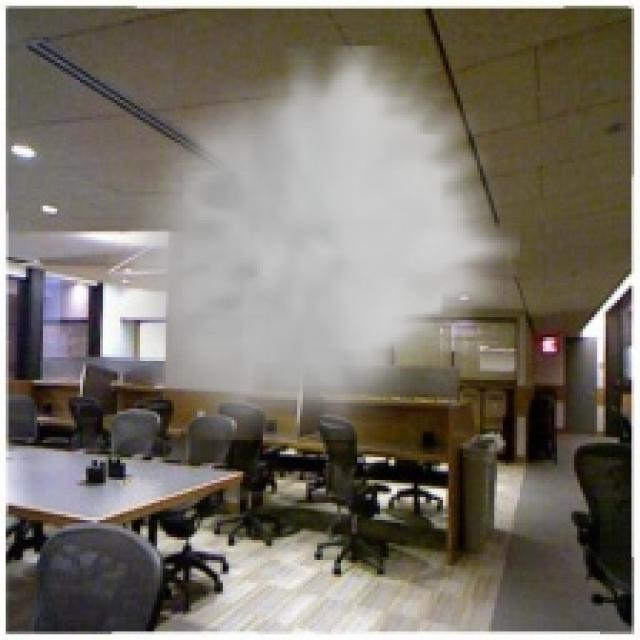Smoke: (108, 46, 520, 440)
